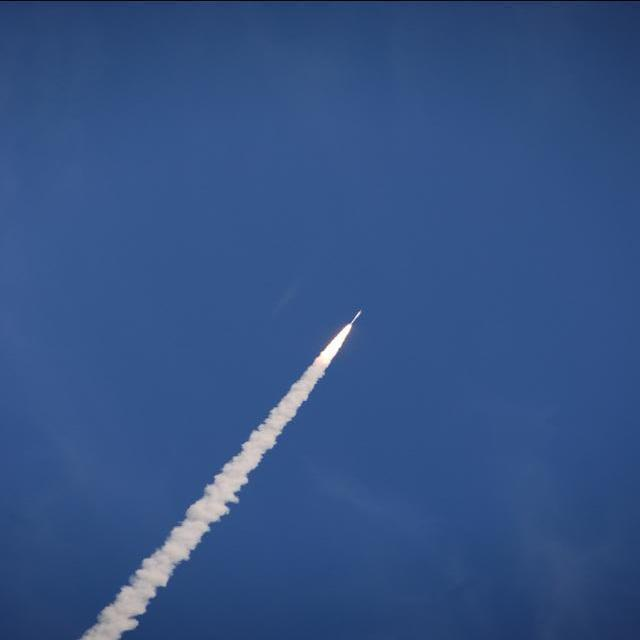missile: (348, 308, 366, 330)
